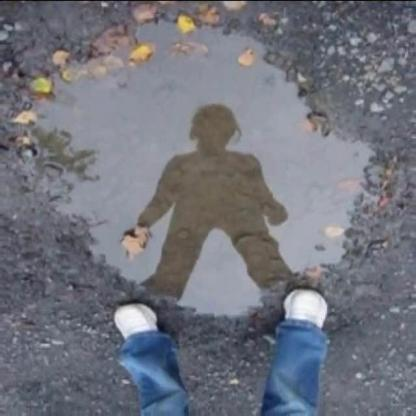other: (101, 10, 267, 96)
